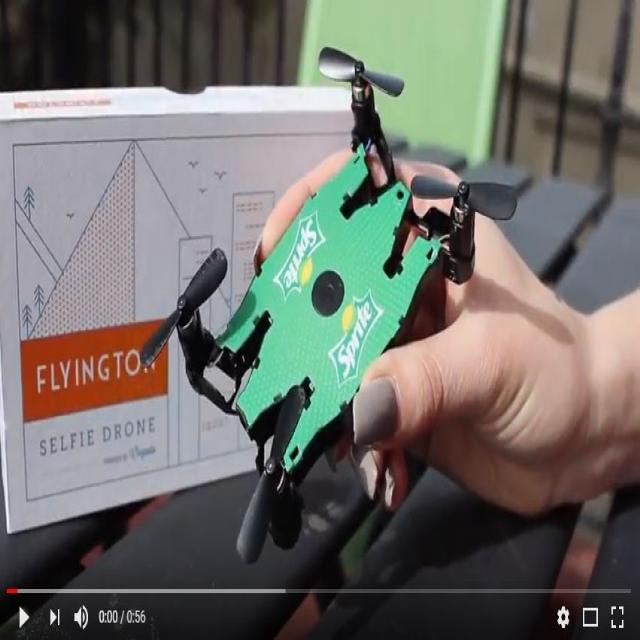drone: (154, 28, 522, 541)
